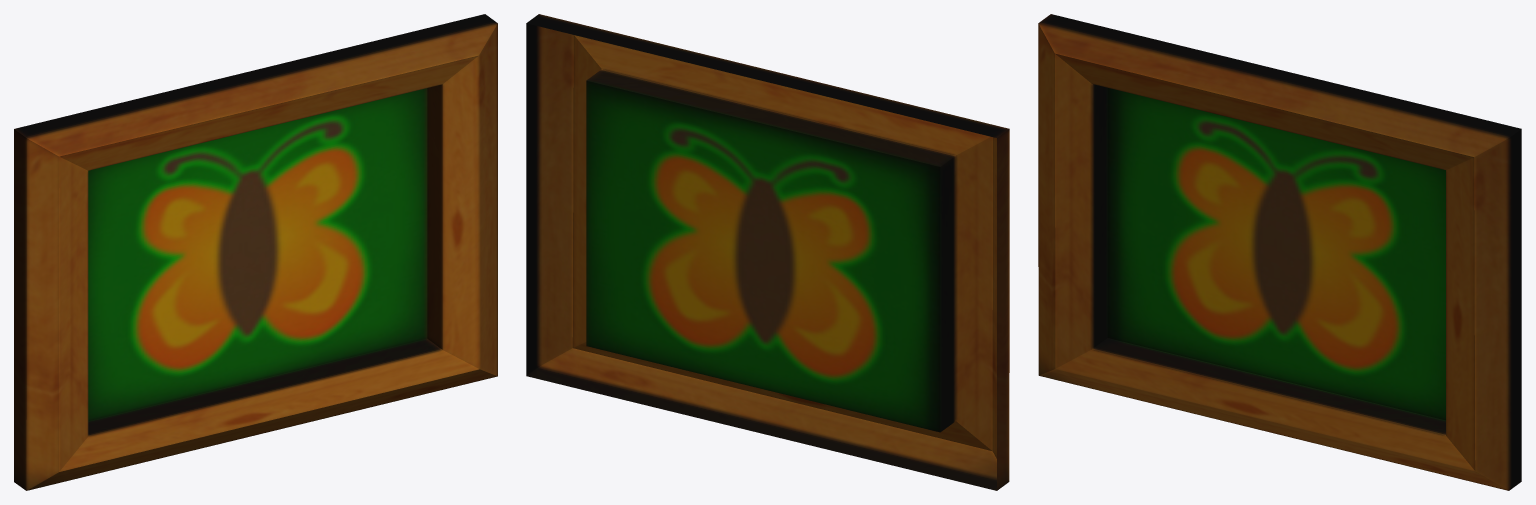
The model's file is videoframe1.dae.
3 views of the same model, side by side, from view 1: azimuth 30°, elevation 25°; view 2: azimuth 150°, elevation 25°; view 3: azimuth 330°, elevation 25° (orthographic).
Visible parts, largest first — view 1: Frame1, Image1; view 2: Image1, Frame1; view 3: Frame1, Image1.
Part boxes in pixels (bbox=[...]): Frame1: bbox=[14, 14, 497, 490]; Image1: bbox=[88, 88, 427, 420]; Image1: bbox=[586, 80, 940, 432]; Frame1: bbox=[526, 14, 1009, 490]; Frame1: bbox=[1038, 14, 1521, 490]; Image1: bbox=[1107, 88, 1445, 420].
Bounding box in the file's own units: 2.84 × 2.04 × 0.2153.
1 material, 1 textured.
